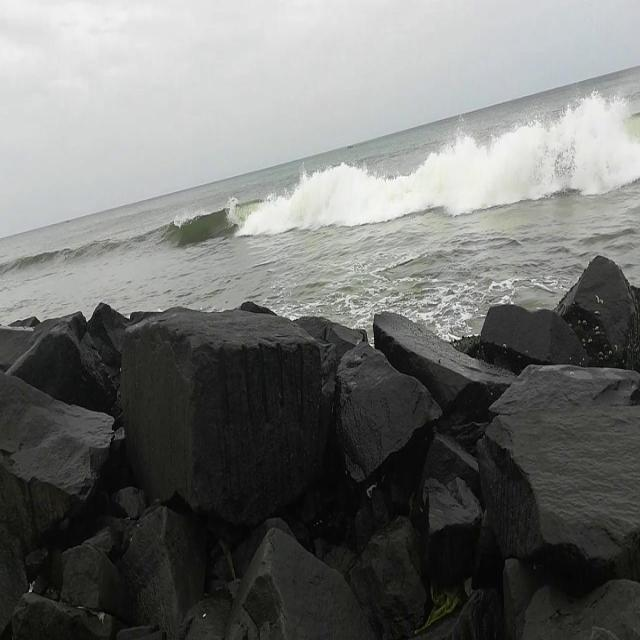other: (432, 107, 628, 211), (244, 156, 423, 220)
